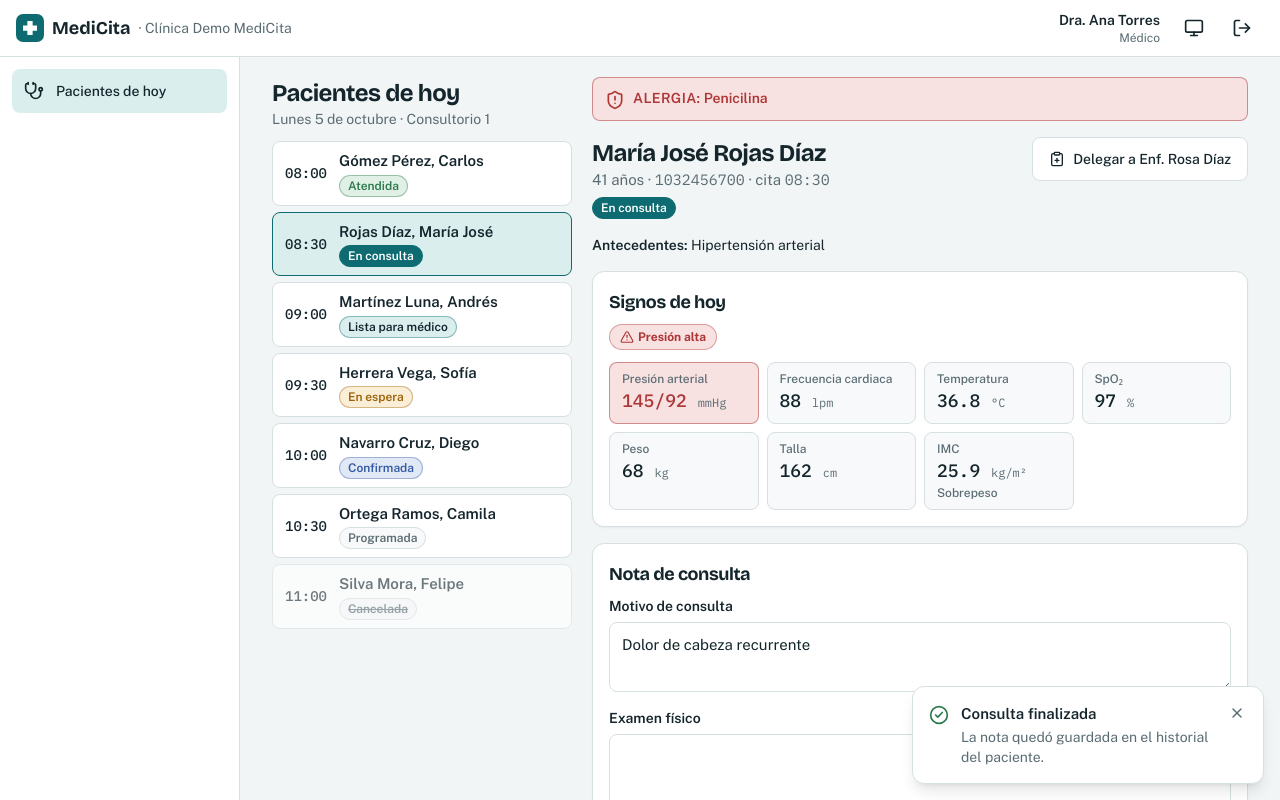
Test: consulta del médico › delega una tarea a la enfermera asignada
Click the button "Delegar a Enf. Rosa Díaz" at (1140, 159), box left=1032, top=137, right=1248, bottom=181
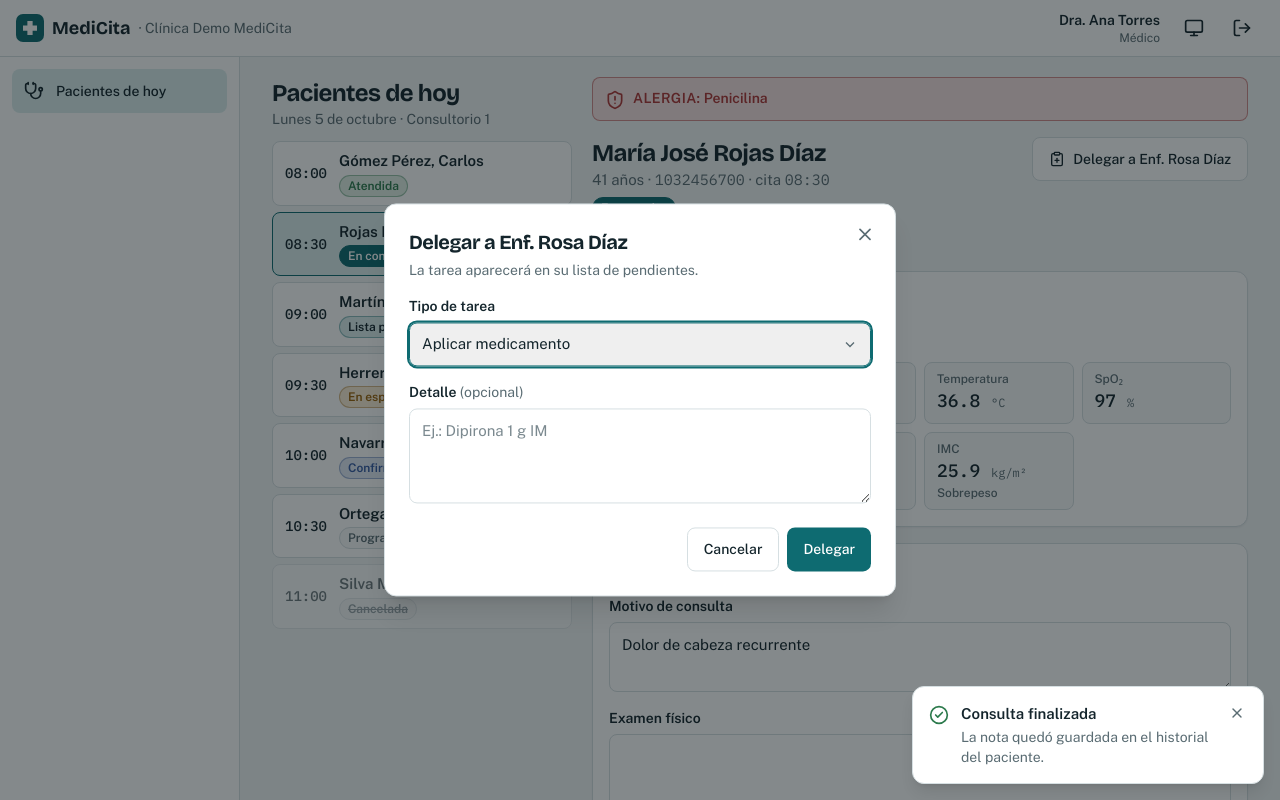
Select "Nebulización" in the dropdown labelled "Tipo de tarea" at (640, 344), box left=409, top=322, right=871, bottom=366
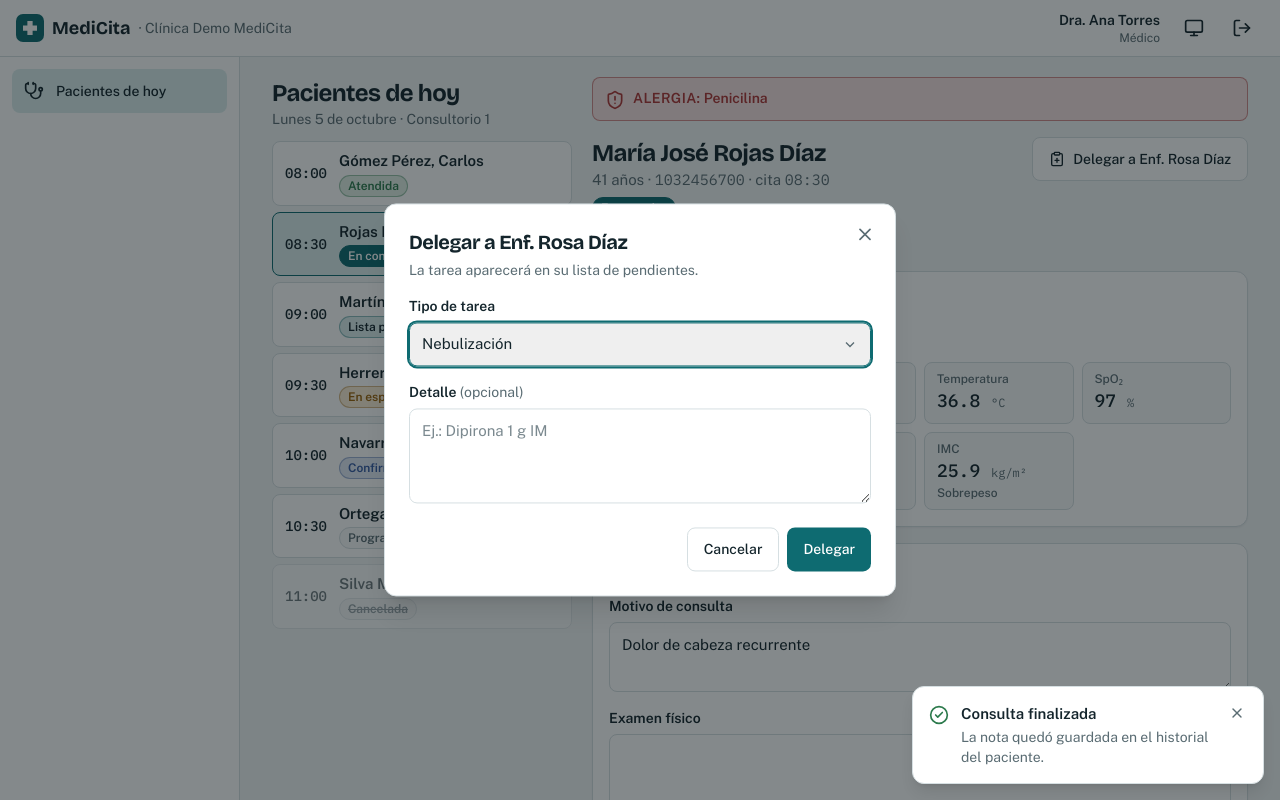
Click the button "Delegar" at (829, 550), box left=788, top=528, right=871, bottom=572
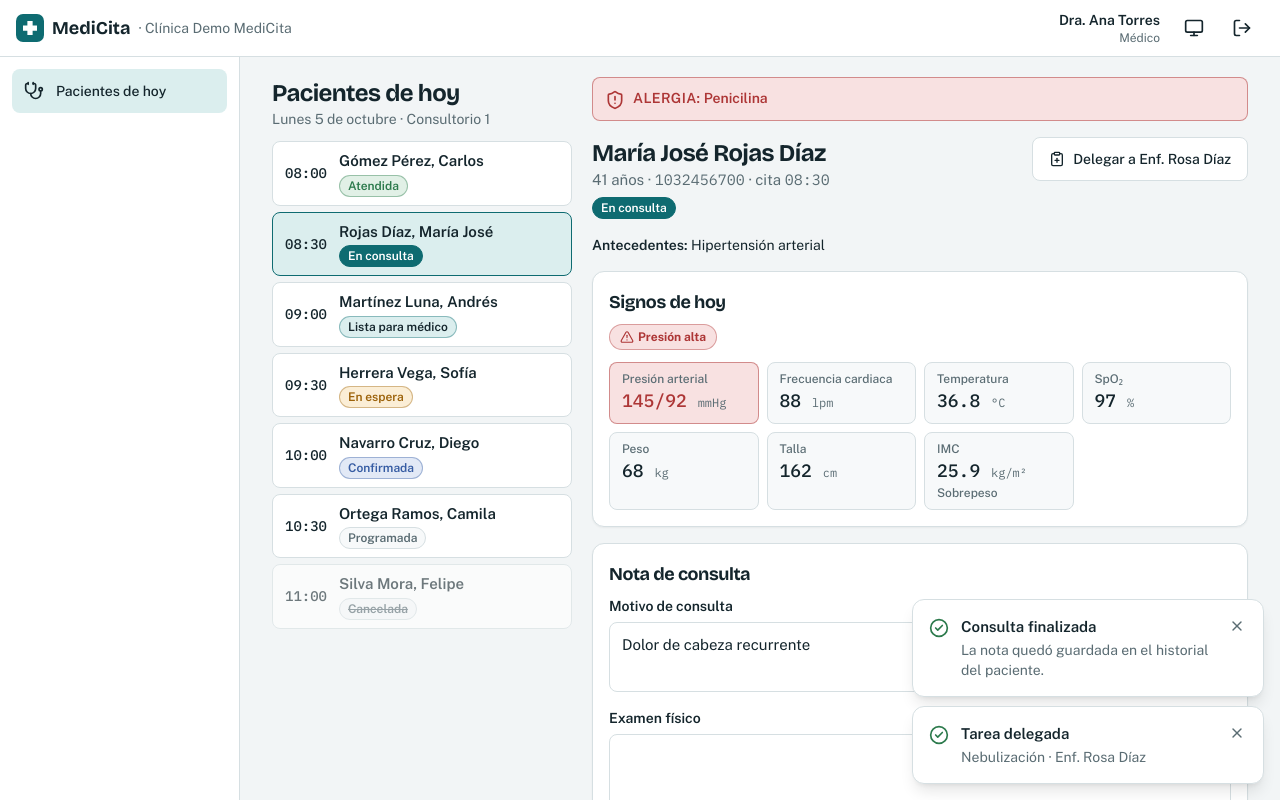
Expected: the text "Tarea delegada" is shown, left=961, top=724, right=1069, bottom=742
